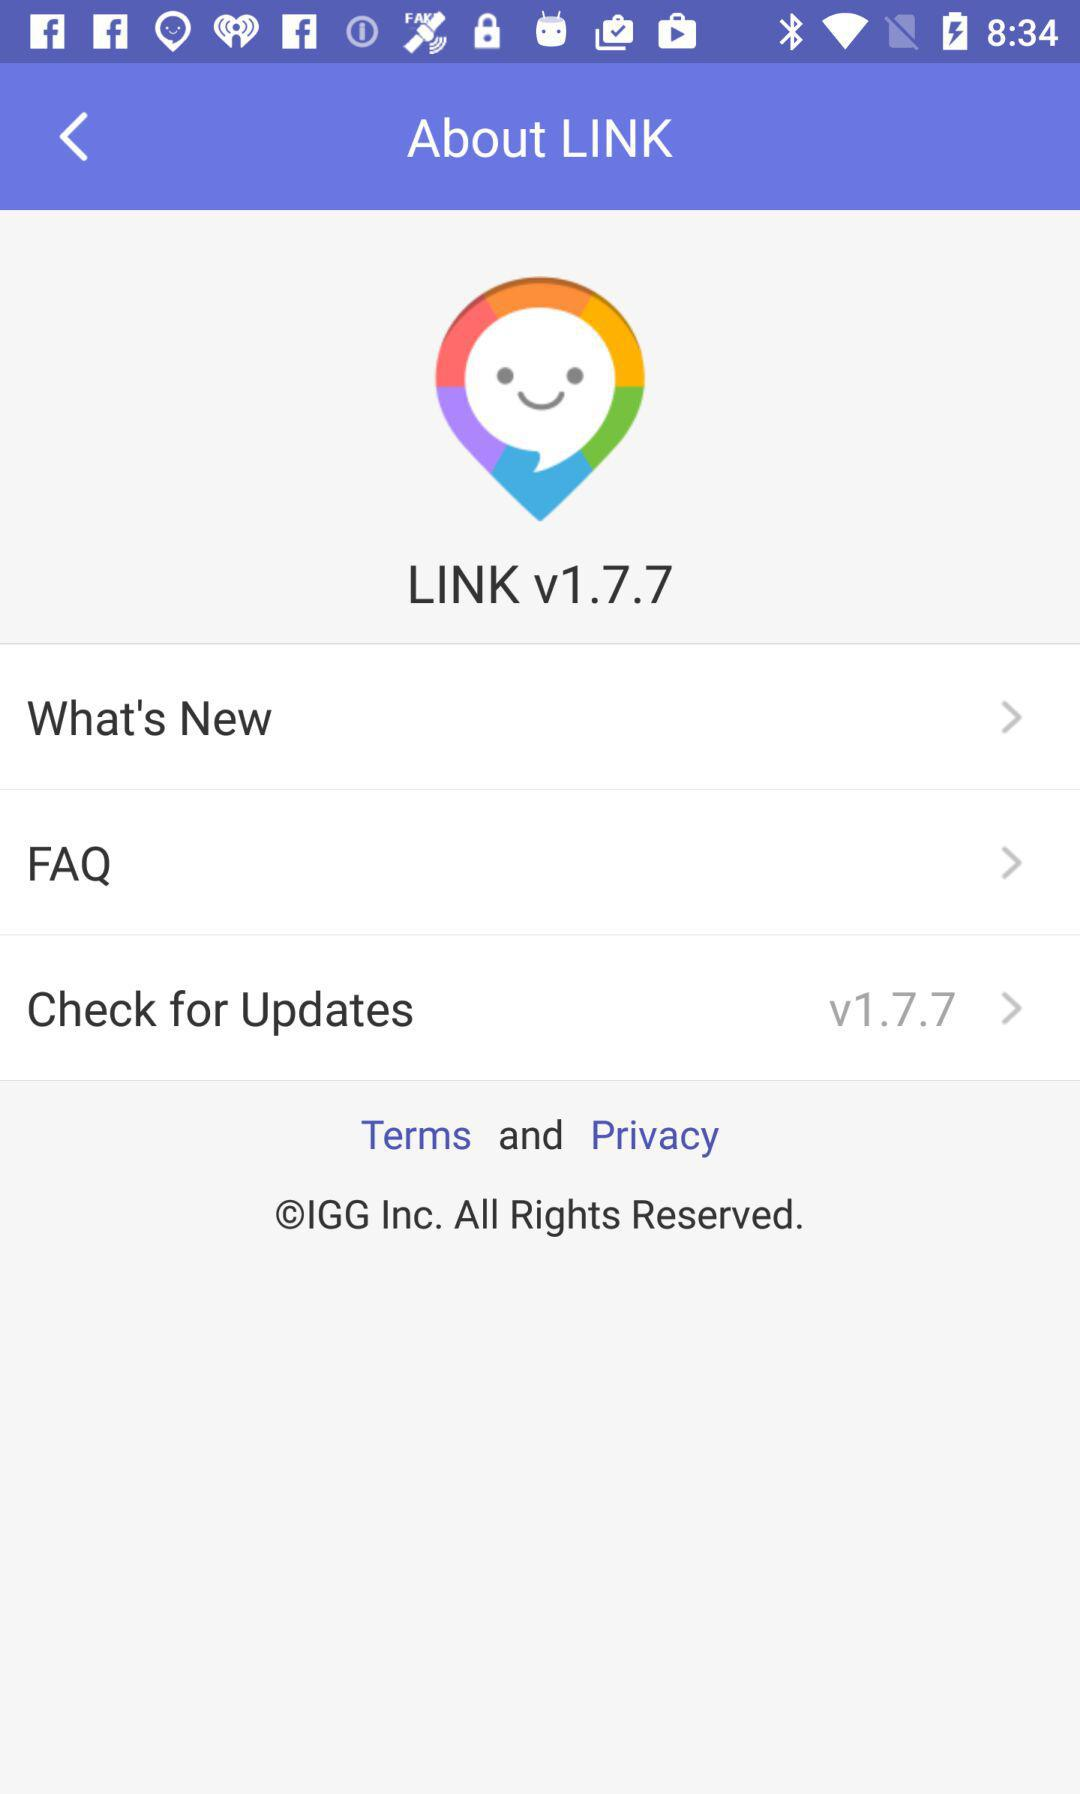Icon: (58, 111, 91, 164), (999, 844, 1025, 882), (998, 991, 1024, 1026), (999, 698, 1024, 736)
Image: (434, 276, 650, 525)
Text: (275, 1196, 805, 1238), (28, 989, 414, 1038), (360, 1117, 721, 1160), (406, 117, 674, 161), (27, 697, 274, 739), (533, 563, 674, 605), (828, 989, 957, 1030), (409, 564, 521, 606), (29, 844, 111, 888)
Toolbar: (1, 63, 1080, 210)
UpperTaskBar: (1, 1, 1080, 64)
